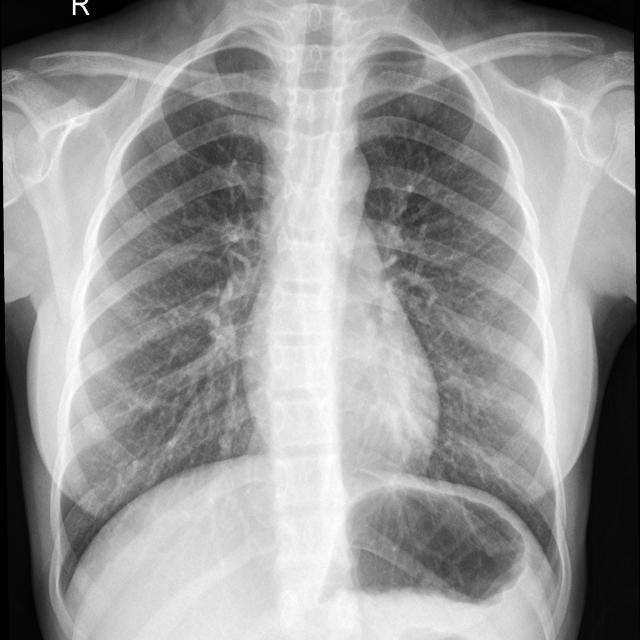no-pneumonia: (70, 48, 281, 556), (361, 52, 559, 564)
